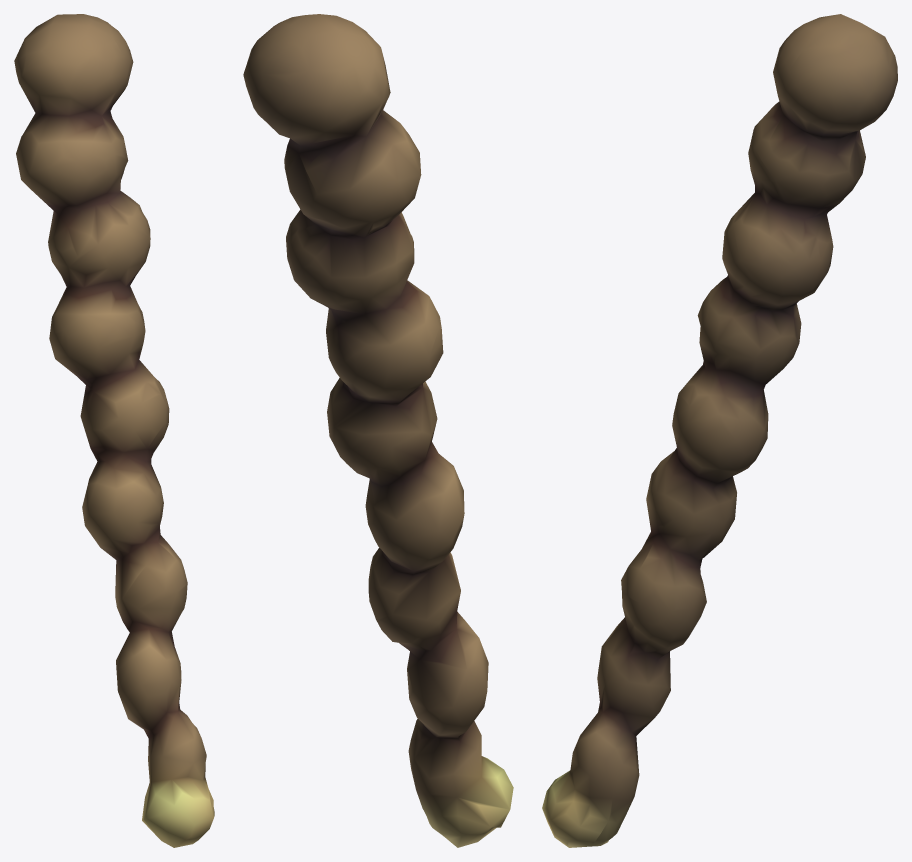
The model's file is hero_braid.glb.
3 renders of one model, left to right at view 1: azimuth 30°, elevation 25°; view 2: azimuth 150°, elevation 25°; view 3: azimuth 270°, elevation 25°, orthographic. The views are drawn at different scales.
Visible parts, largest first — view 1: geometry_0; view 2: geometry_0; view 3: geometry_0.
Part boxes in pixels (bbox=[...]): geometry_0: bbox=[14, 14, 214, 847]; geometry_0: bbox=[243, 14, 513, 847]; geometry_0: bbox=[542, 14, 897, 847].
Size of the model in its own units: 0.0625 by 0.3796 by 0.1486.
